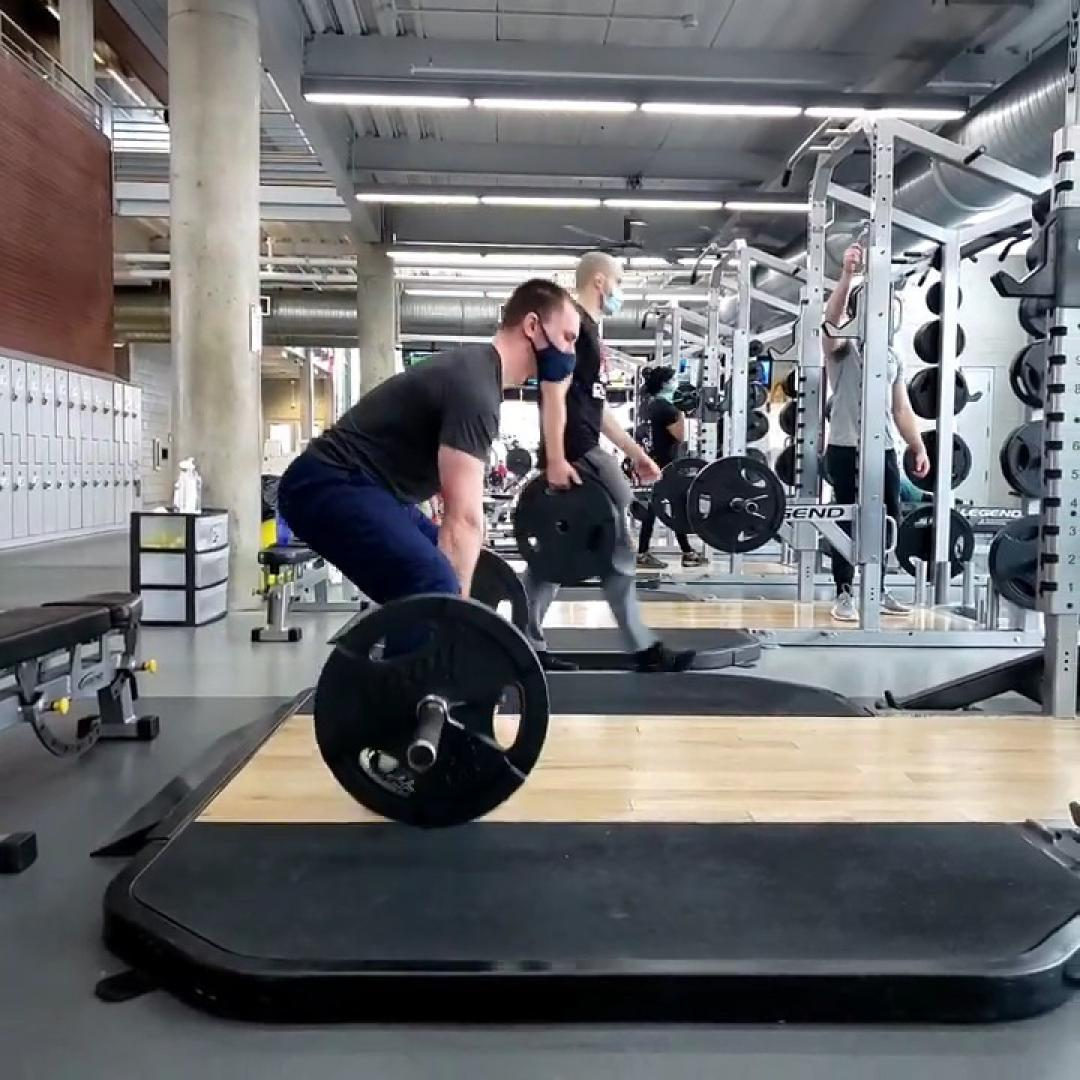Bar: (406, 740, 438, 774)
Barbell: (314, 596, 550, 828)
